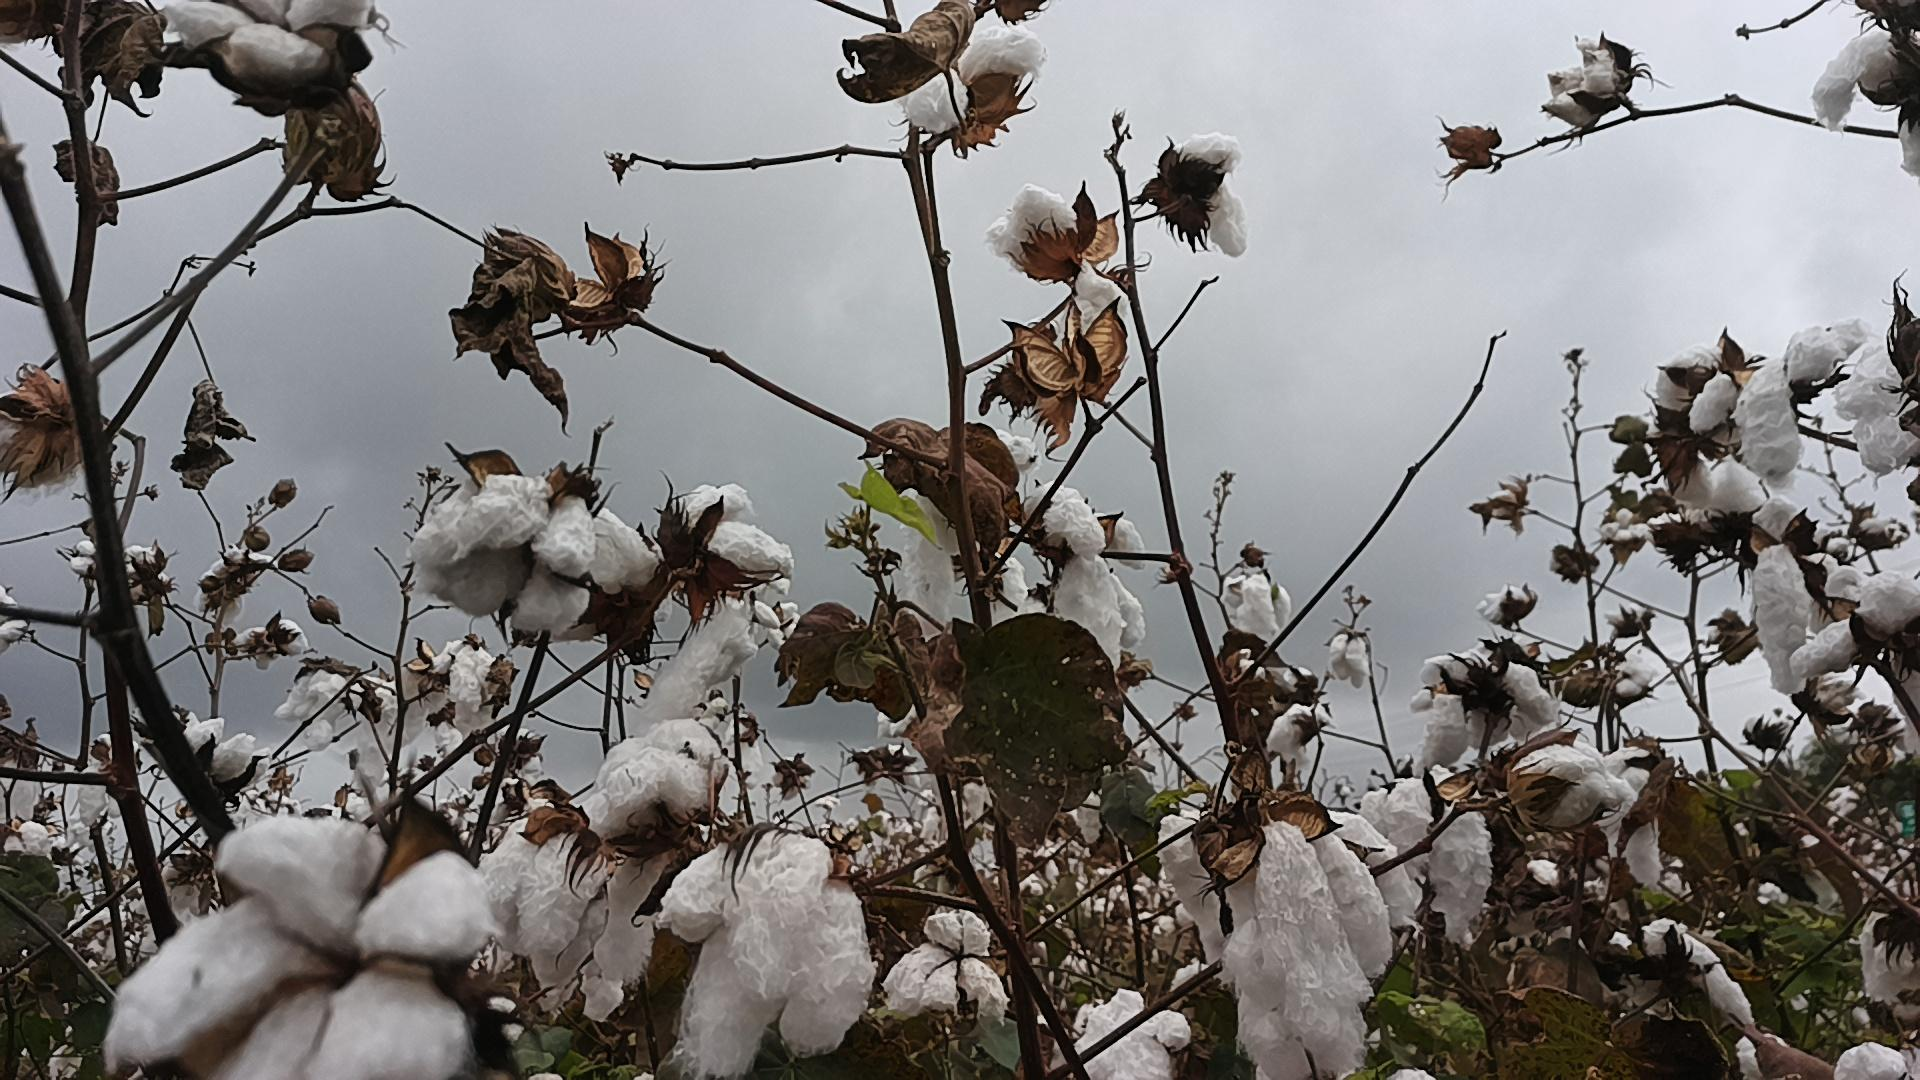cotton_ready: (104, 820, 498, 1080), (1156, 811, 1416, 1080), (659, 837, 874, 1080), (413, 469, 662, 636), (1360, 765, 1491, 945), (872, 491, 968, 737), (1731, 322, 1871, 487), (484, 818, 612, 992), (166, 0, 380, 98), (985, 182, 1125, 330), (633, 589, 757, 742), (584, 713, 729, 836), (584, 847, 684, 1019), (1414, 654, 1559, 769), (884, 909, 1013, 1021), (682, 483, 793, 595), (1832, 335, 1920, 475), (1811, 26, 1920, 138), (1643, 919, 1756, 1025), (1023, 480, 1149, 568), (1054, 554, 1146, 673), (356, 666, 431, 799), (1518, 744, 1634, 829), (1174, 132, 1253, 256), (1077, 992, 1188, 1080), (1753, 545, 1816, 694), (1542, 33, 1631, 133), (1646, 344, 1735, 427), (1791, 609, 1899, 678), (276, 667, 364, 748), (183, 707, 270, 783), (1609, 771, 1665, 886), (434, 640, 505, 729), (957, 25, 1048, 84), (1861, 914, 1920, 1005), (1226, 566, 1295, 638), (902, 66, 968, 135), (1266, 705, 1329, 764), (1832, 1039, 1911, 1080), (1662, 450, 1717, 508), (1862, 571, 1920, 624), (992, 551, 1029, 618), (3, 820, 53, 869), (1477, 587, 1527, 624), (1899, 117, 1920, 182)
